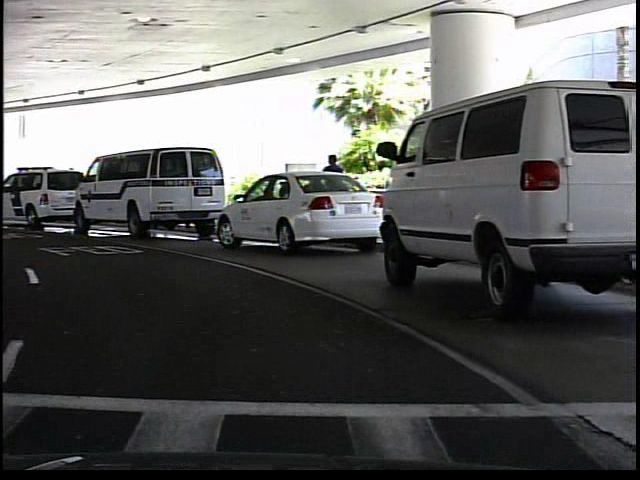person: (320, 150, 350, 232)
